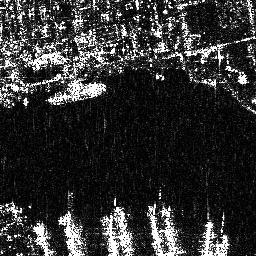ship: (45, 80, 109, 105)
